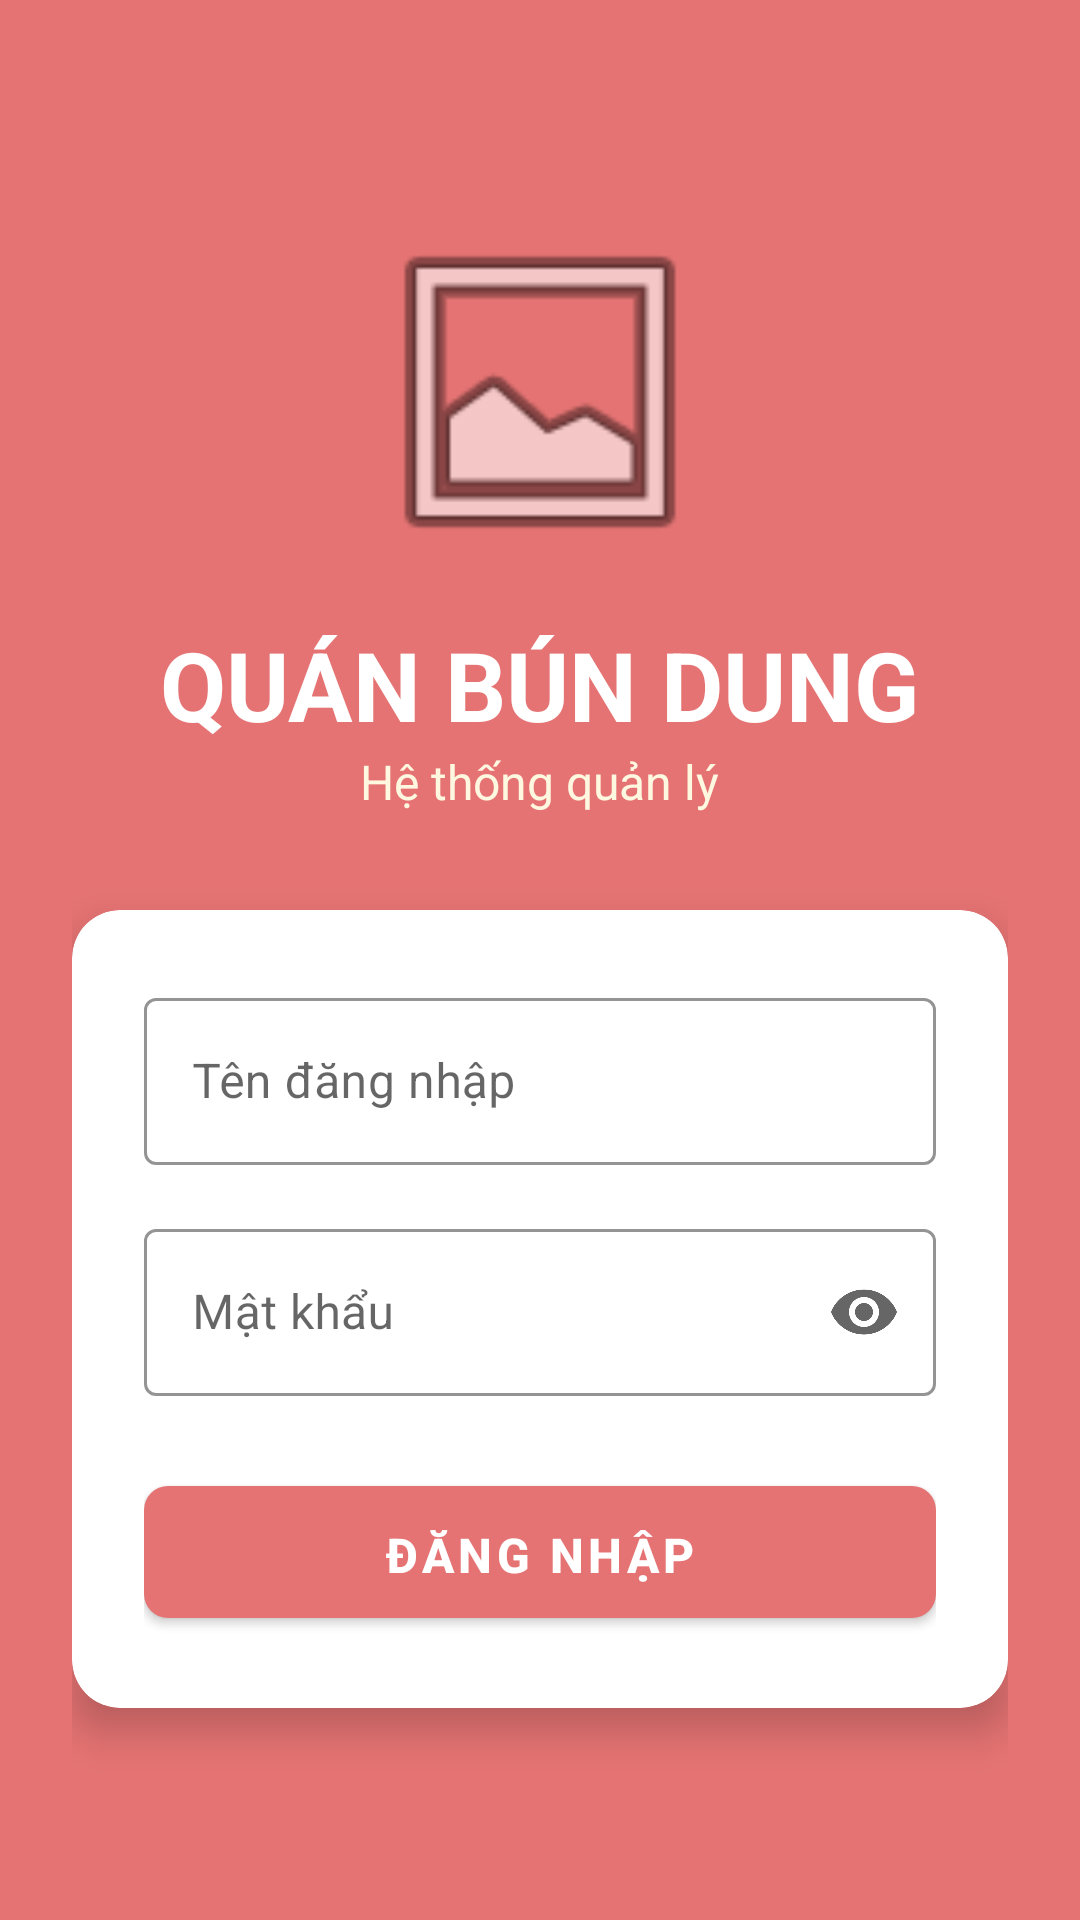

Icons on this 1080px×1920px Android screen, each with the point to tap as [x,y]:
gallery: [540,392]
